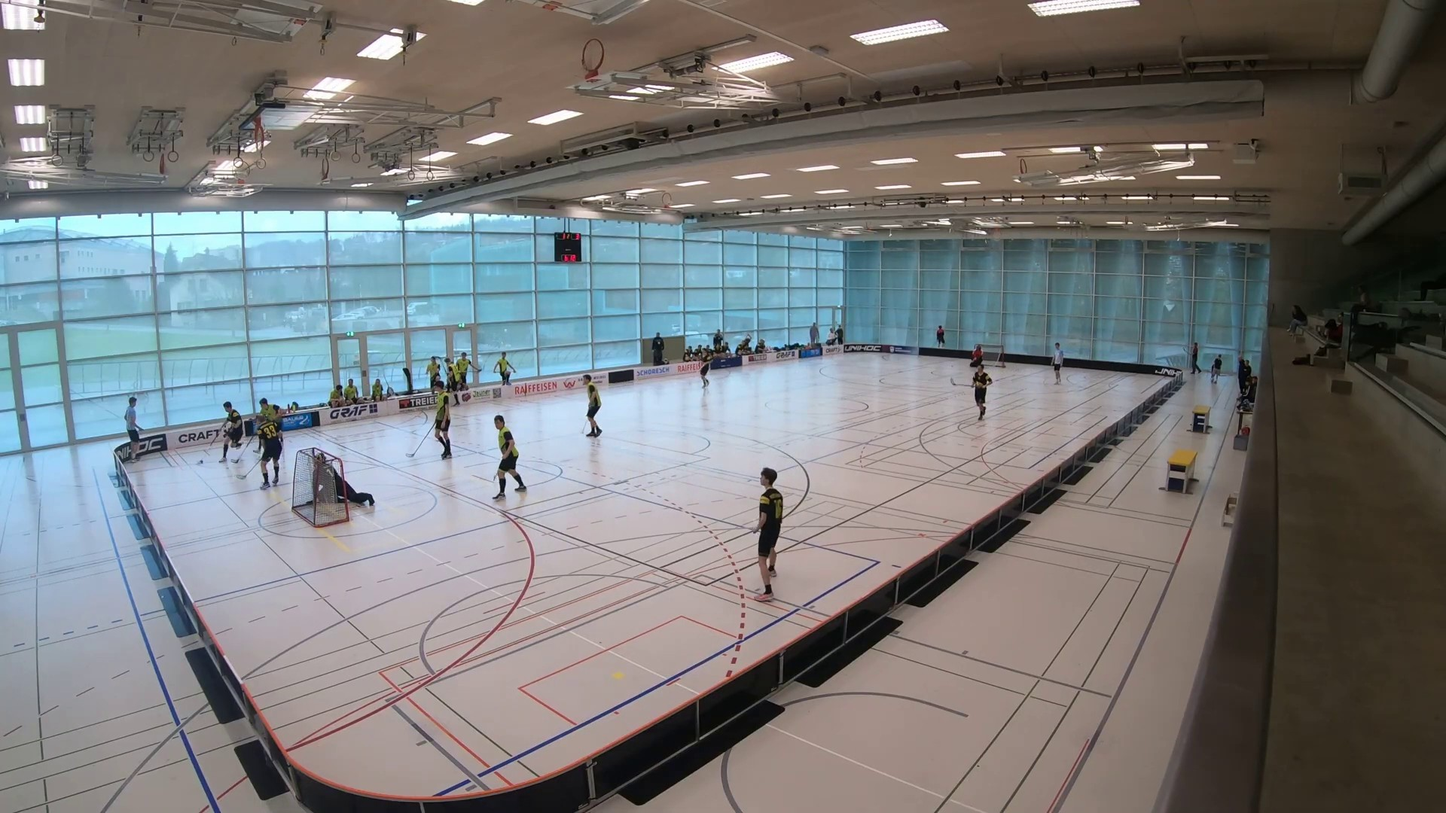ball: (199, 457, 205, 466)
goalkeeper: (301, 448, 379, 516), (970, 344, 983, 367)
player: (752, 467, 783, 601), (493, 415, 526, 499), (257, 419, 282, 489), (432, 382, 451, 459), (221, 401, 243, 462), (443, 358, 466, 409), (583, 374, 601, 437), (972, 367, 992, 419), (256, 398, 279, 431), (699, 350, 710, 388)
